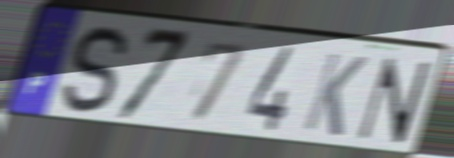4: (245, 44, 296, 134)
7: (111, 24, 195, 124), (193, 38, 251, 125)
K: (299, 49, 371, 140)
N: (352, 54, 436, 146)
S: (57, 23, 132, 118)
